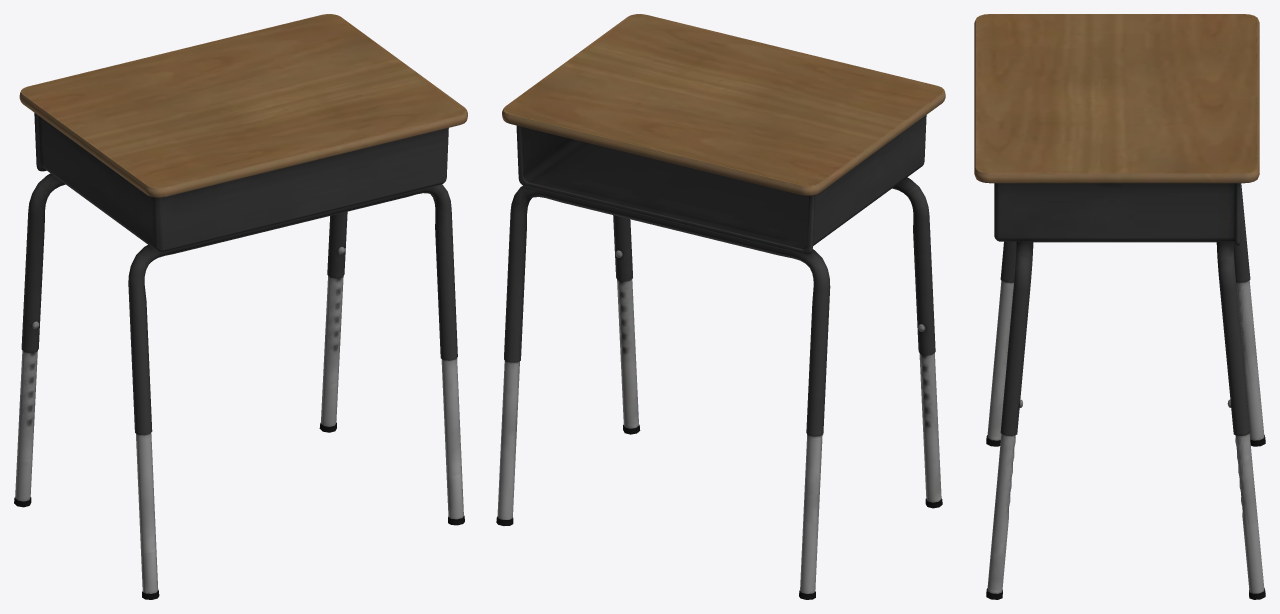
Rendered from SchoolDesk_01.glb.
The picture shows the model from 3 angles, left to right: view 1: azimuth 30°, elevation 25°; view 2: azimuth 150°, elevation 25°; view 3: azimuth 270°, elevation 25°; orthographic projection. The views are drawn at different scales.
Visible parts, largest first — view 1: SchoolDesk_01; view 2: SchoolDesk_01; view 3: SchoolDesk_01.
Part boxes in pixels (<box>): SchoolDesk_01: <box>14,14,467,599</box>; SchoolDesk_01: <box>496,14,945,599</box>; SchoolDesk_01: <box>974,14,1265,599</box>.
Bounding box in the file's own units: 0.7117 × 0.8826 × 0.546.
1 material, 1 textured.
